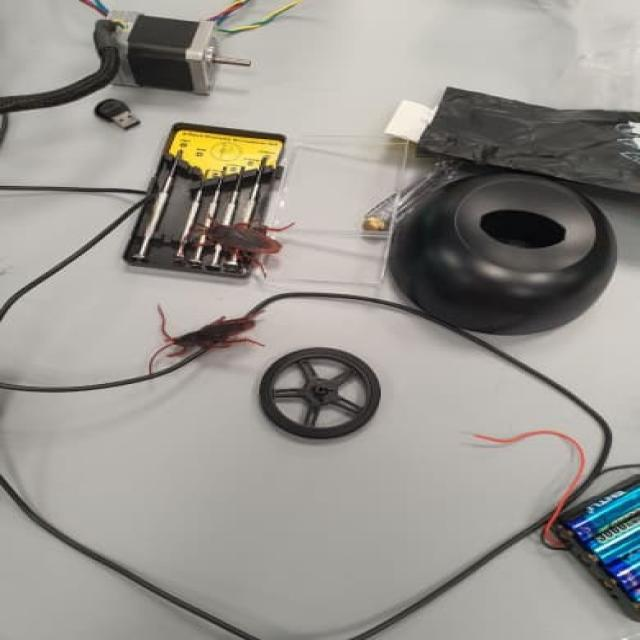Cockroach: (185, 204, 298, 290), (133, 298, 264, 369)
